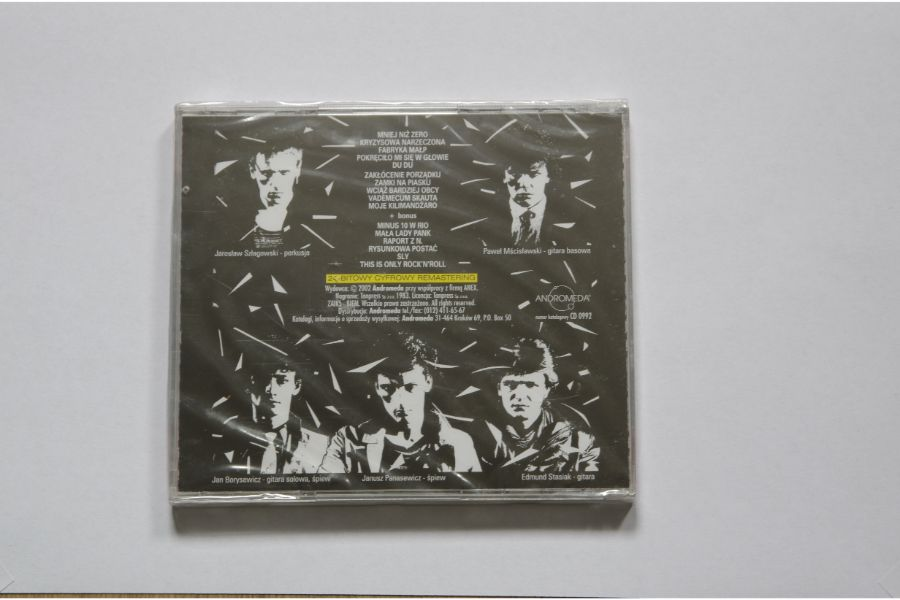album: (171, 102, 638, 504)
